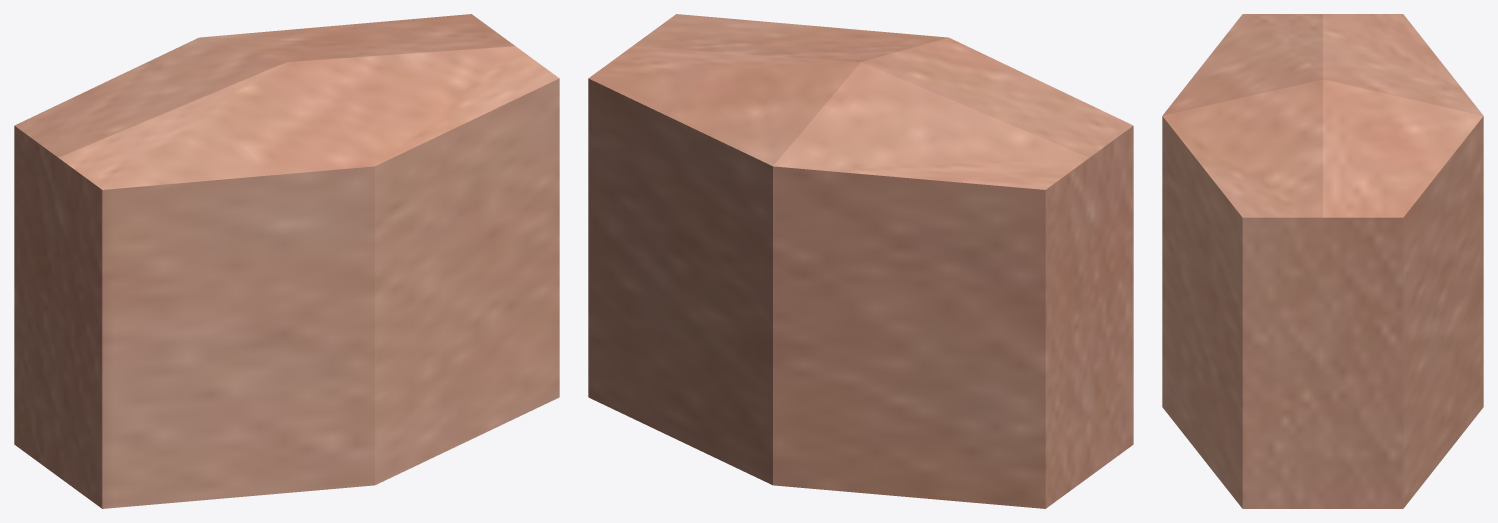
The model's file is hand.obj.
The picture shows the model from 3 angles, left to right: view 1: azimuth 30°, elevation 25°; view 2: azimuth 150°, elevation 25°; view 3: azimuth 270°, elevation 25°; orthographic projection. The views are drawn at different scales.
Parts seen in each view (by area): view 1: Cube; view 2: Cube; view 3: Cube.
Boxes of the visible parts, box(x1,y1,x2,y2) form: Cube: box(14, 14, 559, 508); Cube: box(588, 14, 1133, 508); Cube: box(1162, 14, 1483, 508).
Size of the model in its own units: 1.2 by 1 by 0.8.
